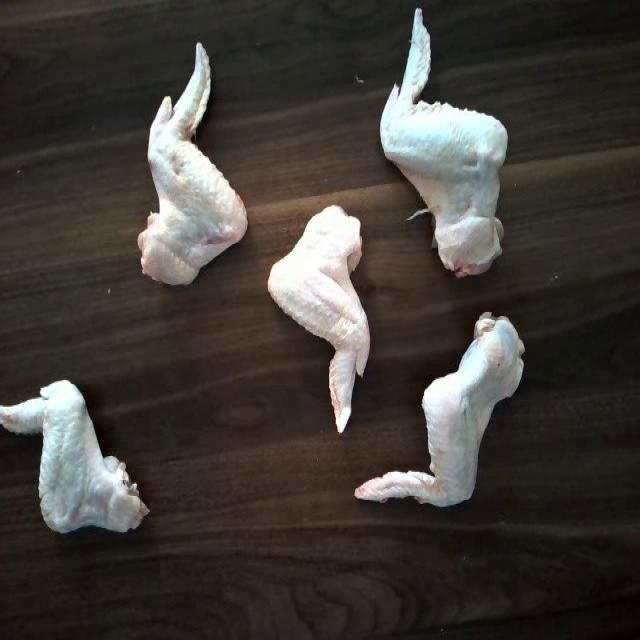wing: (357, 288, 530, 528), (373, 5, 516, 286), (140, 33, 247, 294), (0, 364, 148, 550), (267, 198, 373, 430)
